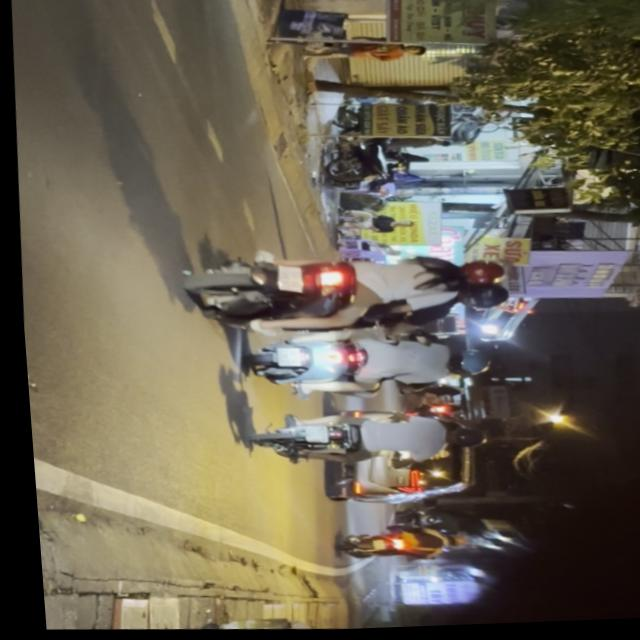helmet: (452, 280, 507, 311), (453, 258, 507, 288), (440, 352, 484, 380), (436, 426, 480, 451)
licenseplate: (171, 238, 516, 343), (225, 323, 493, 404), (230, 400, 485, 480)
nohelmet: (272, 265, 300, 293), (270, 348, 296, 368), (297, 425, 321, 445)
